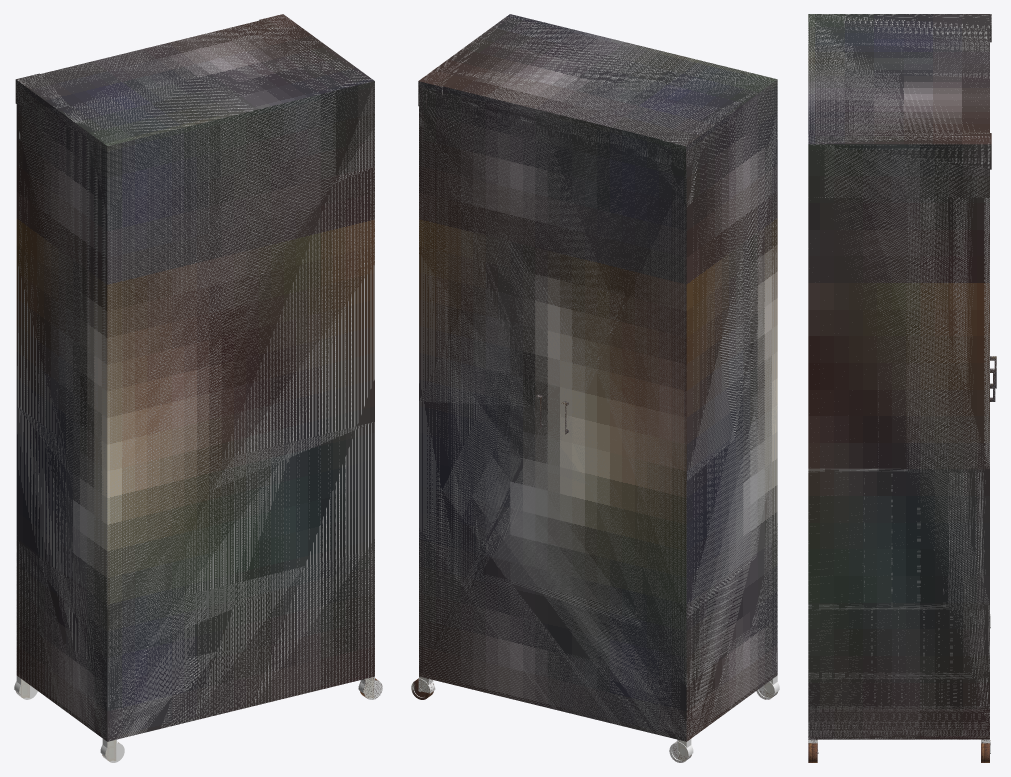
The picture shows the model from 3 angles, left to right: view 1: azimuth 30°, elevation 25°; view 2: azimuth 150°, elevation 25°; view 3: azimuth 270°, elevation 25°; orthographic projection.
Parts seen in each view (by area): view 1: mesh5_mesh5-geometry; view 2: mesh5_mesh5-geometry; view 3: mesh5_mesh5-geometry.
Part boxes in pixels (x1,y1,x2,y2): mesh5_mesh5-geometry: (15,14,374,741); mesh5_mesh5-geometry: (418,14,777,741); mesh5_mesh5-geometry: (808,14,996,739).
Size of the model in its own units: 0.4123 by 0.8783 by 0.2423.
